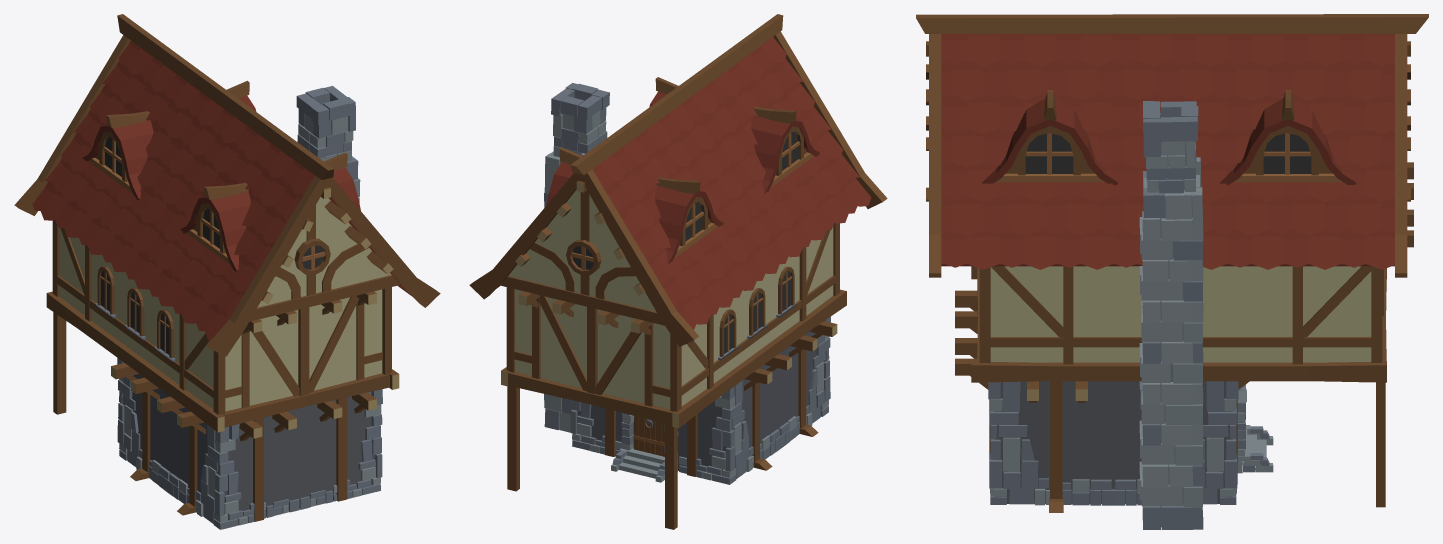
File: house_2.017_lev2.glb
3 renders of one model, left to right at view 1: azimuth 30°, elevation 25°; view 2: azimuth 150°, elevation 25°; view 3: azimuth 270°, elevation 25°, orthographic. The views are drawn at different scales.
Visible parts, largest first — view 1: house_2.017_lev2; view 2: house_2.017_lev2; view 3: house_2.017_lev2.
Boxes of the visible parts, x1,y1,x2,y2 form: house_2.017_lev2: (14,14,440,529); house_2.017_lev2: (469,14,887,529); house_2.017_lev2: (916,14,1428,529).
Bounding box in the file's own units: 4.44 × 6.5 × 6.84.
